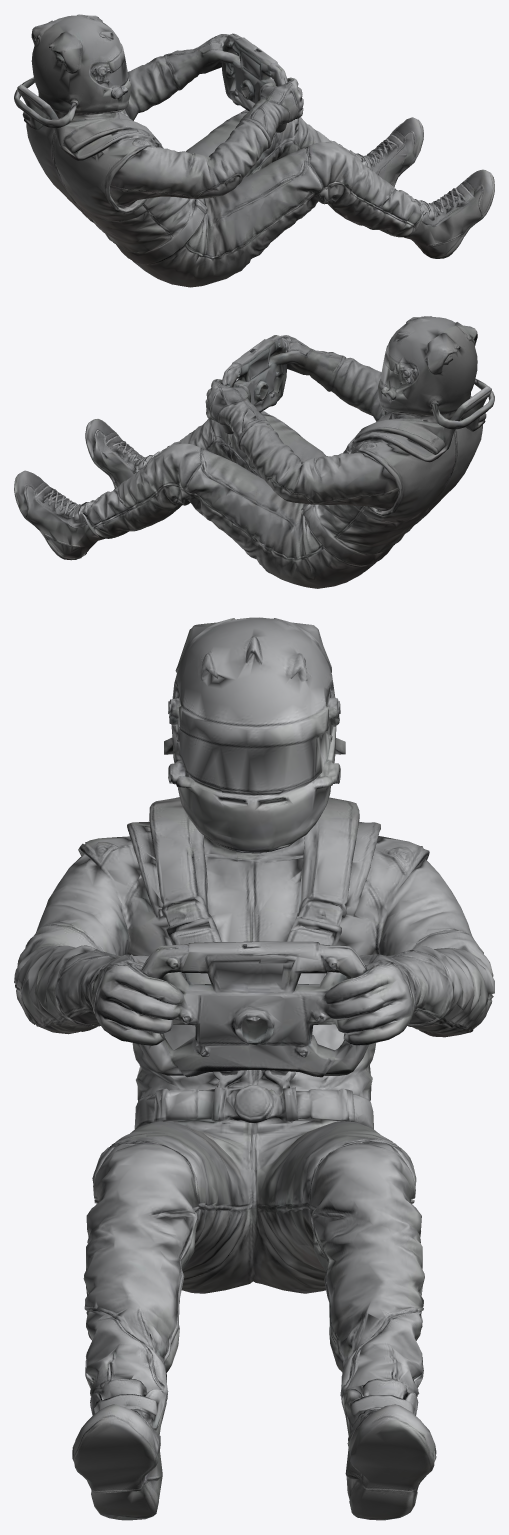
Rendered from piloto_alto.glb.
3 views of the same model, one above another, from view 1: azimuth 30°, elevation 25°; view 2: azimuth 150°, elevation 25°; view 3: azimuth 270°, elevation 25° (orthographic). The views are drawn at different scales.
Parts seen in each view (by area): view 1: tripo_node_23a1c8c1-6969-4e70-9a37-66a4d47271d5; view 2: tripo_node_23a1c8c1-6969-4e70-9a37-66a4d47271d5; view 3: tripo_node_23a1c8c1-6969-4e70-9a37-66a4d47271d5.
Part boxes in pixels (x1,y1,x2,y2): tripo_node_23a1c8c1-6969-4e70-9a37-66a4d47271d5: (14,14,494,287); tripo_node_23a1c8c1-6969-4e70-9a37-66a4d47271d5: (14,316,494,588); tripo_node_23a1c8c1-6969-4e70-9a37-66a4d47271d5: (14,617,494,1520).
Size of the model in its own units: 1.13 by 0.7427 by 0.5582.
Materials: 1 (1 with a texture image).
